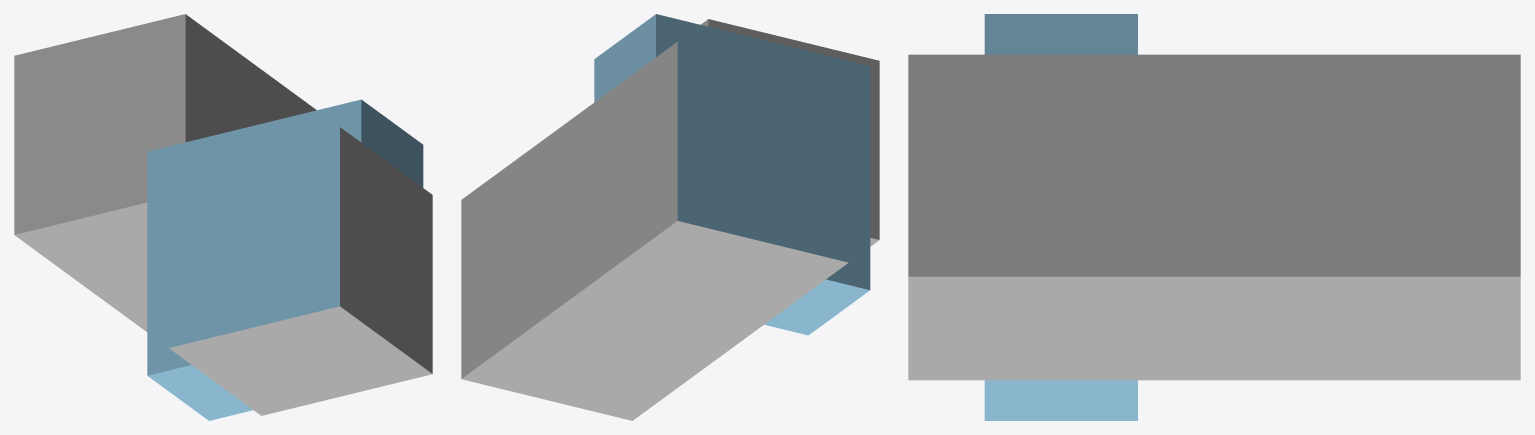
File: focus_stage.glb
3 renders of one model, left to right at view 1: azimuth 30°, elevation 25°; view 2: azimuth 150°, elevation 25°; view 3: azimuth 270°, elevation 25°, orthographic. The views are drawn at different scales.
Parts seen in each view (by area): view 1: focus_stage_rail, focus_camera_mount; view 2: focus_stage_rail, focus_camera_mount; view 3: focus_stage_rail, focus_camera_mount.
Boxes of the visible parts, <box> form: focus_stage_rail: <box>14,14,432,415</box>; focus_camera_mount: <box>147,99,423,420</box>; focus_stage_rail: <box>461,19,879,420</box>; focus_camera_mount: <box>594,14,870,335</box>; focus_stage_rail: <box>908,54,1520,380</box>; focus_camera_mount: <box>984,14,1137,420</box>.
Size of the model in its own units: 0.1 by 0.1 by 0.2.
